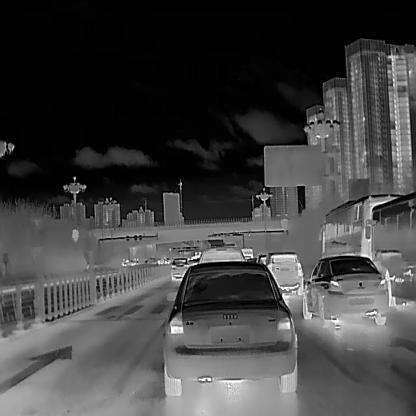car: (162, 258, 298, 396), (318, 191, 406, 268), (302, 254, 389, 327), (364, 190, 416, 308), (262, 249, 304, 295), (198, 245, 245, 263), (170, 256, 191, 279), (240, 246, 254, 260)
